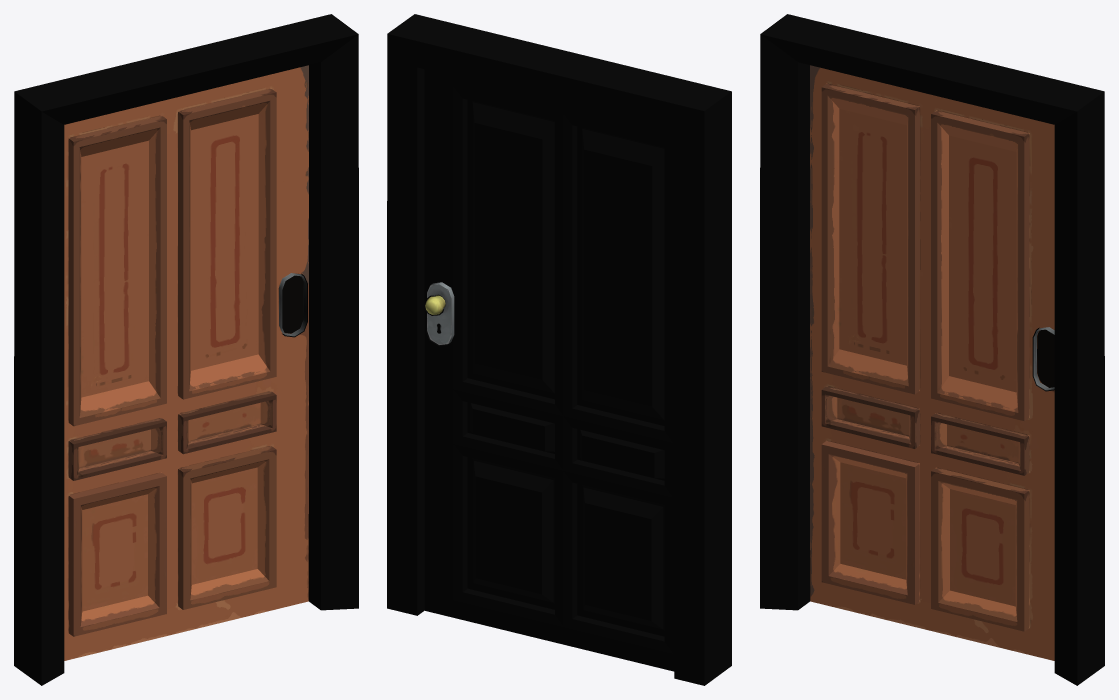
Rendered from Door.fbx.
3 renders of one model, left to right at view 1: azimuth 30°, elevation 25°; view 2: azimuth 150°, elevation 25°; view 3: azimuth 330°, elevation 25°, orthographic.
Parts seen in each view (by area): view 1: Door; view 2: Door; view 3: Door.
Boxes of the visible parts, x1=… form: Door: x1=14, y1=14, x2=358, y2=685; Door: x1=387, y1=14, x2=731, y2=685; Door: x1=760, y1=14, x2=1104, y2=685.
Bounding box in the file's own units: 161 × 27.92 × 278.
